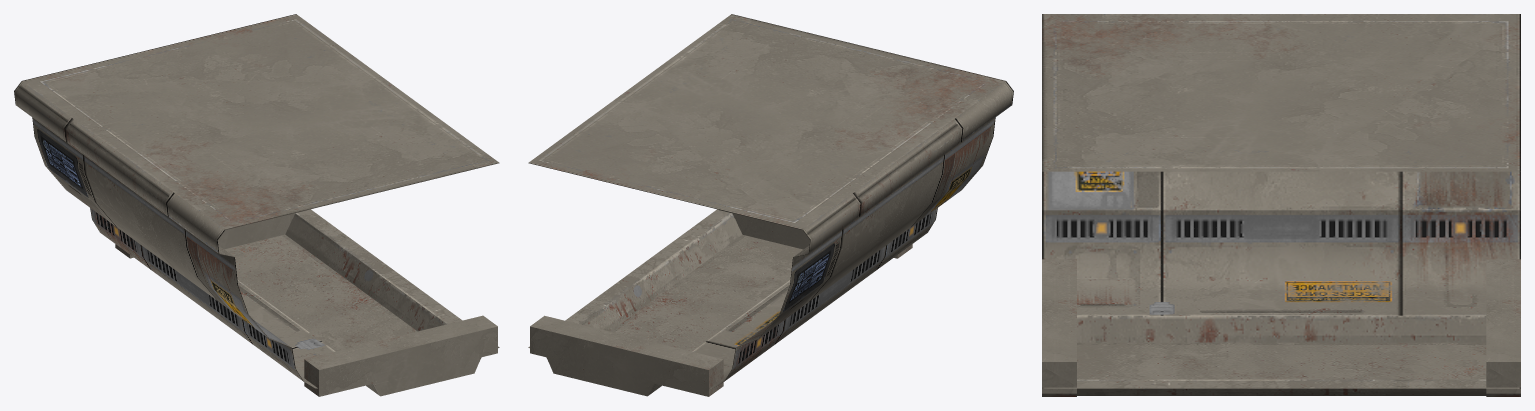
File: CP_Canopy_Industrial_4m_04.fbx
3 renders of one model, left to right at view 1: azimuth 30°, elevation 25°; view 2: azimuth 150°, elevation 25°; view 3: azimuth 270°, elevation 25°, orthographic. The views are drawn at different scales.
Visible parts, largest first — view 1: CP_Canopy_Industrial_4m_04; view 2: CP_Canopy_Industrial_4m_04; view 3: CP_Canopy_Industrial_4m_04.
Boxes of the visible parts, left/top/right/bottom form: CP_Canopy_Industrial_4m_04: left=14, top=14, right=499, bottom=396; CP_Canopy_Industrial_4m_04: left=528, top=14, right=1013, bottom=396; CP_Canopy_Industrial_4m_04: left=1042, top=14, right=1520, bottom=396.
Bounding box in the file's own units: 160 × 111 × 200.
